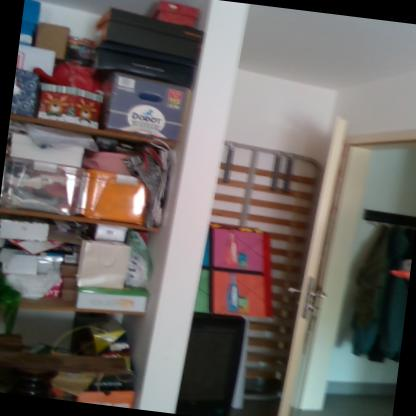semi: (268, 103, 415, 415)
